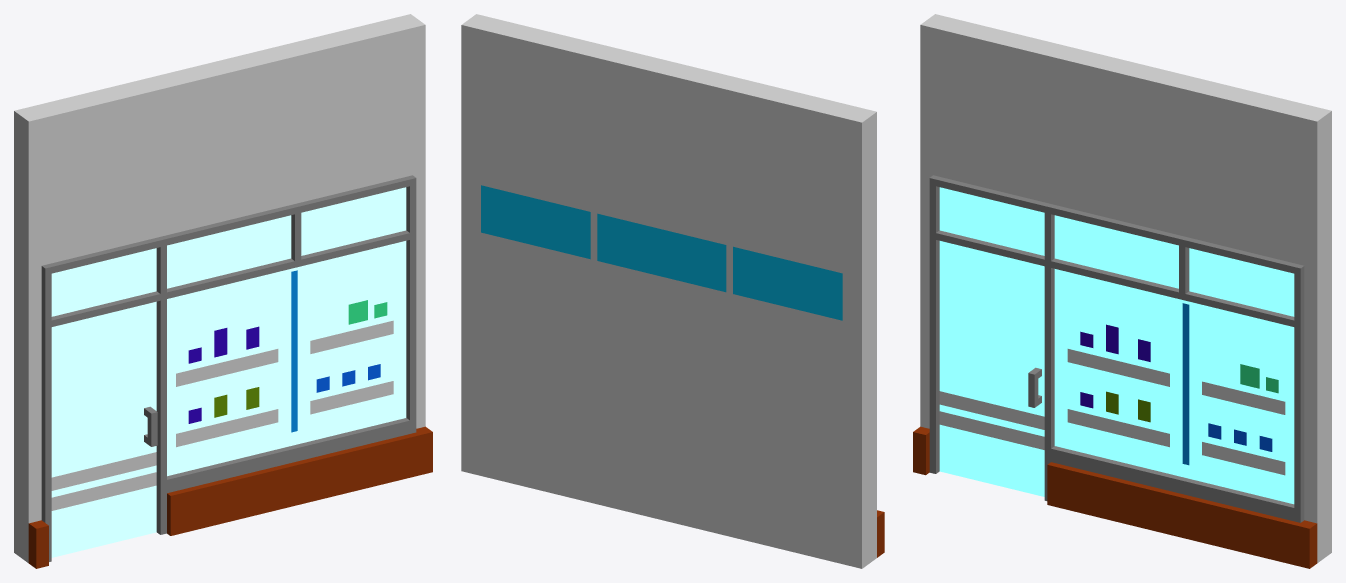
Rendered from storeOne.glb.
3 renders of one model, left to right at view 1: azimuth 30°, elevation 25°; view 2: azimuth 150°, elevation 25°; view 3: azimuth 330°, elevation 25°, orthographic.
Visible parts, largest first — view 1: ObjObject; view 2: ObjObject; view 3: ObjObject.
Part boxes in pixels (bbox=[...]): ObjObject: bbox=[14, 14, 432, 568]; ObjObject: bbox=[461, 14, 884, 568]; ObjObject: bbox=[913, 14, 1331, 568].
Bounding box in the file's own units: 6.2 × 6.6 × 0.6.
Materials: 2 (1 with a texture image).
